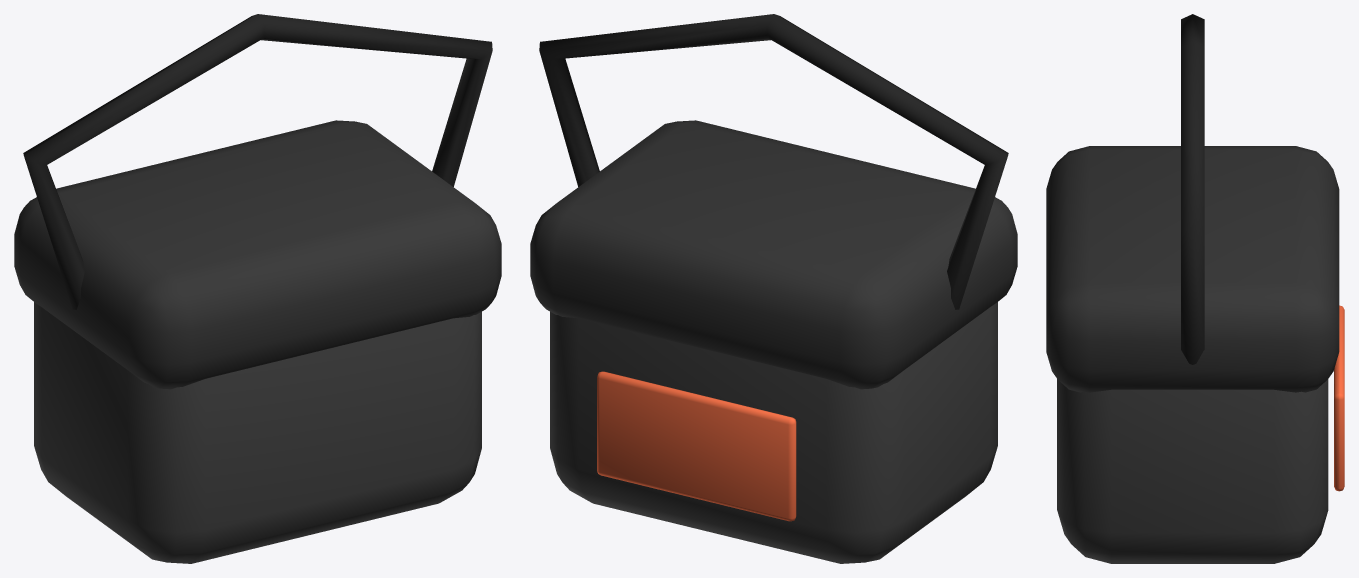
Rendered from camera_bag.fbx.
3 renders of one model, left to right at view 1: azimuth 30°, elevation 25°; view 2: azimuth 150°, elevation 25°; view 3: azimuth 270°, elevation 25°, orthographic. The views are drawn at different scales.
Parts seen in each view (by area): view 1: Camera Bag; view 2: Camera Bag; view 3: Camera Bag.
Part boxes in pixels (bbox=[...]): Camera Bag: bbox=[14, 14, 501, 563]; Camera Bag: bbox=[530, 14, 1017, 563]; Camera Bag: bbox=[1046, 14, 1344, 563].
Size of the model in its own units: 0.9447 by 0.935 by 0.55.
